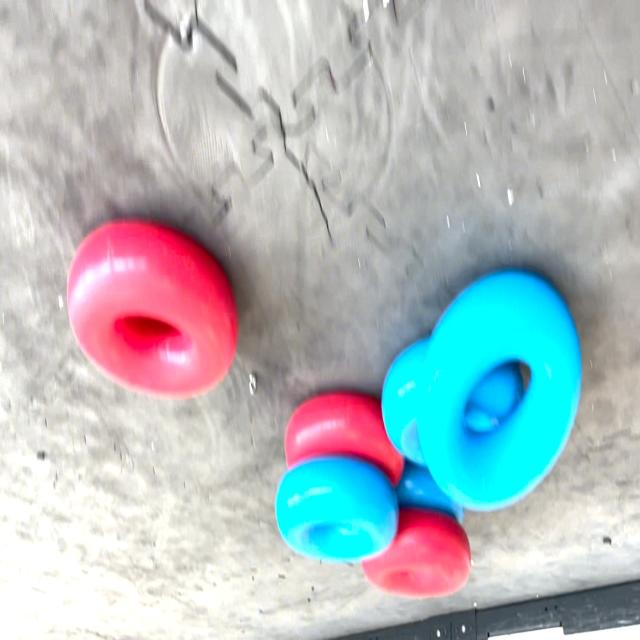Blue-Ring: (418, 271, 581, 511), (275, 456, 399, 562), (381, 338, 430, 464)
Red-Ring: (68, 220, 238, 398), (285, 391, 404, 487), (361, 509, 471, 598)
